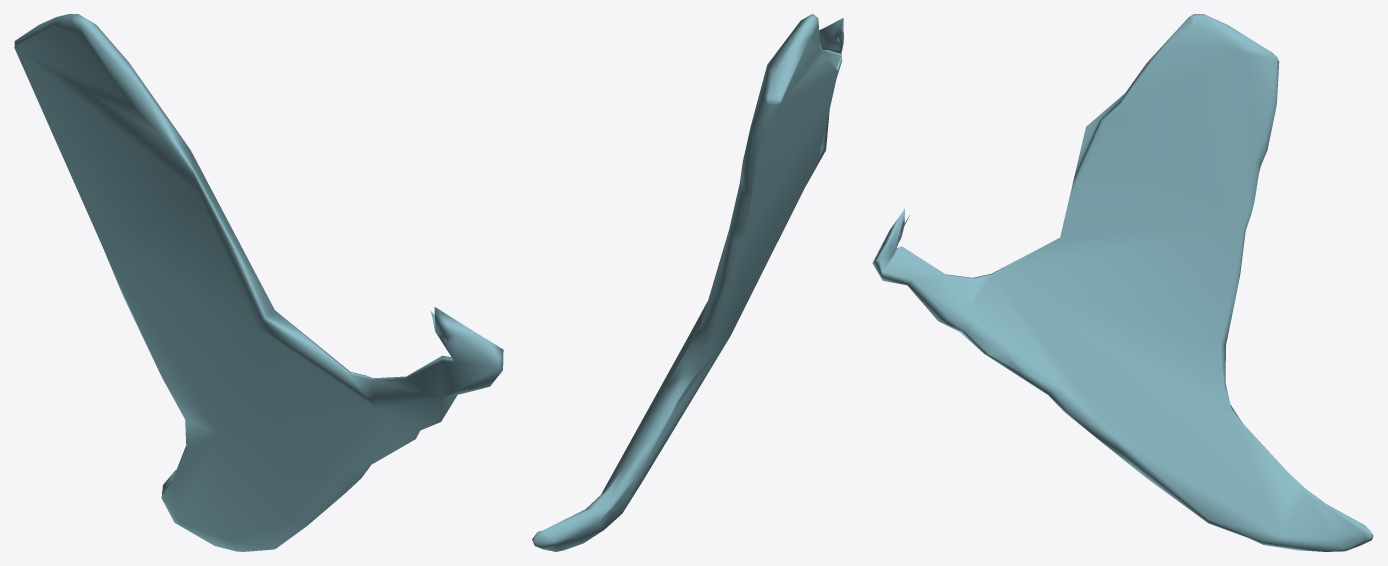
3 renders of one model, left to right at view 1: azimuth 30°, elevation 25°; view 2: azimuth 150°, elevation 25°; view 3: azimuth 270°, elevation 25°, orthographic. The views are drawn at different scales.
Parts seen in each view (by area): view 1: 右侧鼻中隔软骨外侧突; view 2: 右侧鼻中隔软骨外侧突; view 3: 右侧鼻中隔软骨外侧突.
Part boxes in pixels (box(x1,y1,x2,y2)): 右侧鼻中隔软骨外侧突: box(14, 14, 503, 551); 右侧鼻中隔软骨外侧突: box(532, 14, 843, 551); 右侧鼻中隔软骨外侧突: box(872, 14, 1373, 551).
Size of the model in its own units: 0.0194 by 0.0495 by 0.0486.
